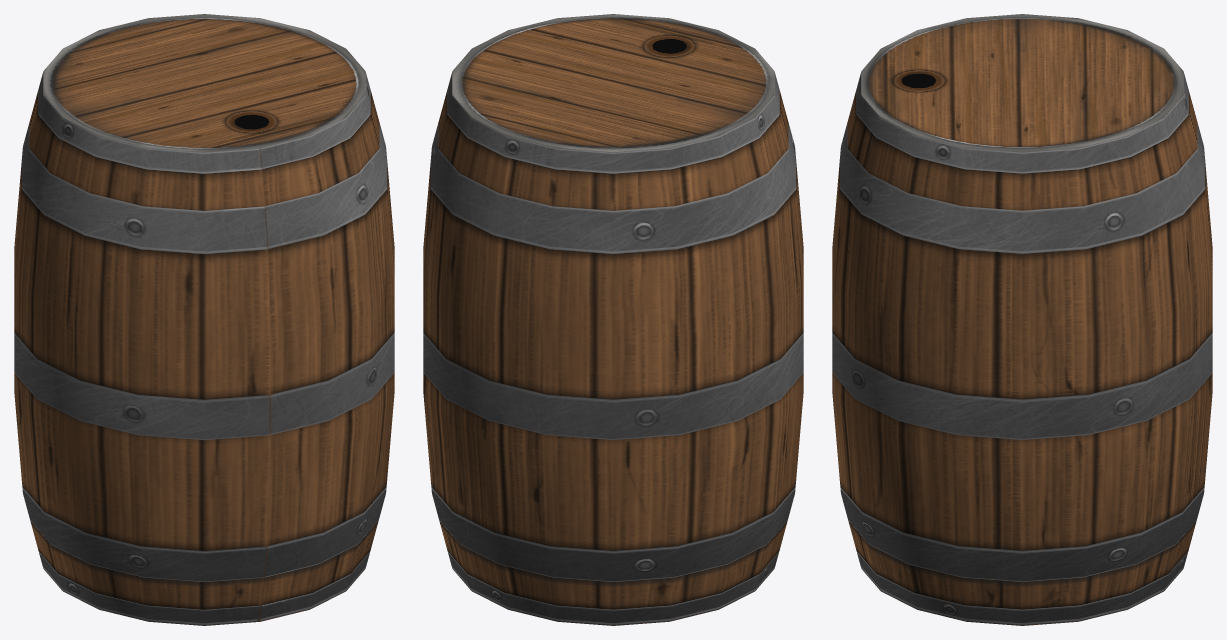
Rendered from barrel.obj.
3 renders of one model, left to right at view 1: azimuth 30°, elevation 25°; view 2: azimuth 150°, elevation 25°; view 3: azimuth 270°, elevation 25°, orthographic.
Parts seen in each view (by area): view 1: Cylinder001; view 2: Cylinder001; view 3: Cylinder001.
Part boxes in pixels (left/top/right/bottom): Cylinder001: left=14, top=14, right=394, bottom=625; Cylinder001: left=423, top=14, right=803, bottom=625; Cylinder001: left=832, top=14, right=1212, bottom=625.
Bounding box in the file's own units: 25.33 × 34.25 × 24.95.
